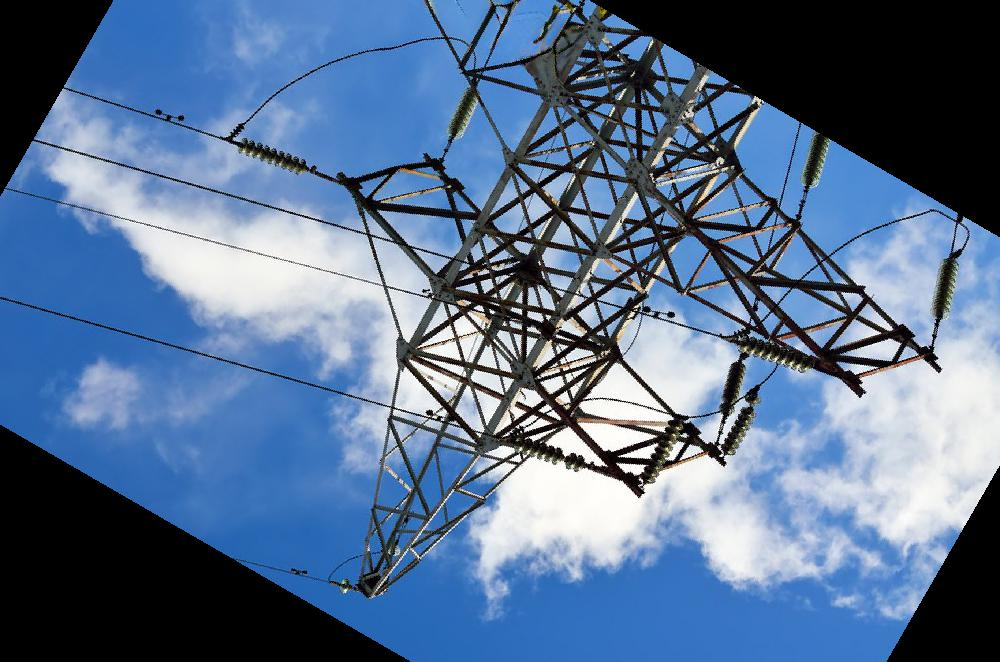insulator: (637, 416, 688, 487), (734, 334, 816, 377), (235, 134, 308, 181), (718, 385, 765, 458), (511, 434, 588, 476), (927, 254, 962, 325), (443, 84, 484, 142), (798, 128, 834, 191), (715, 358, 749, 418)
insulator_stringdrop: (548, 444, 578, 473), (738, 390, 765, 419)
